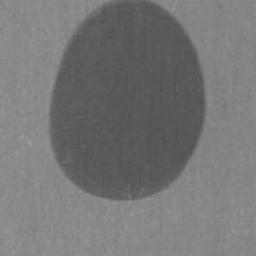Oil spot: (49, 0, 206, 202)
